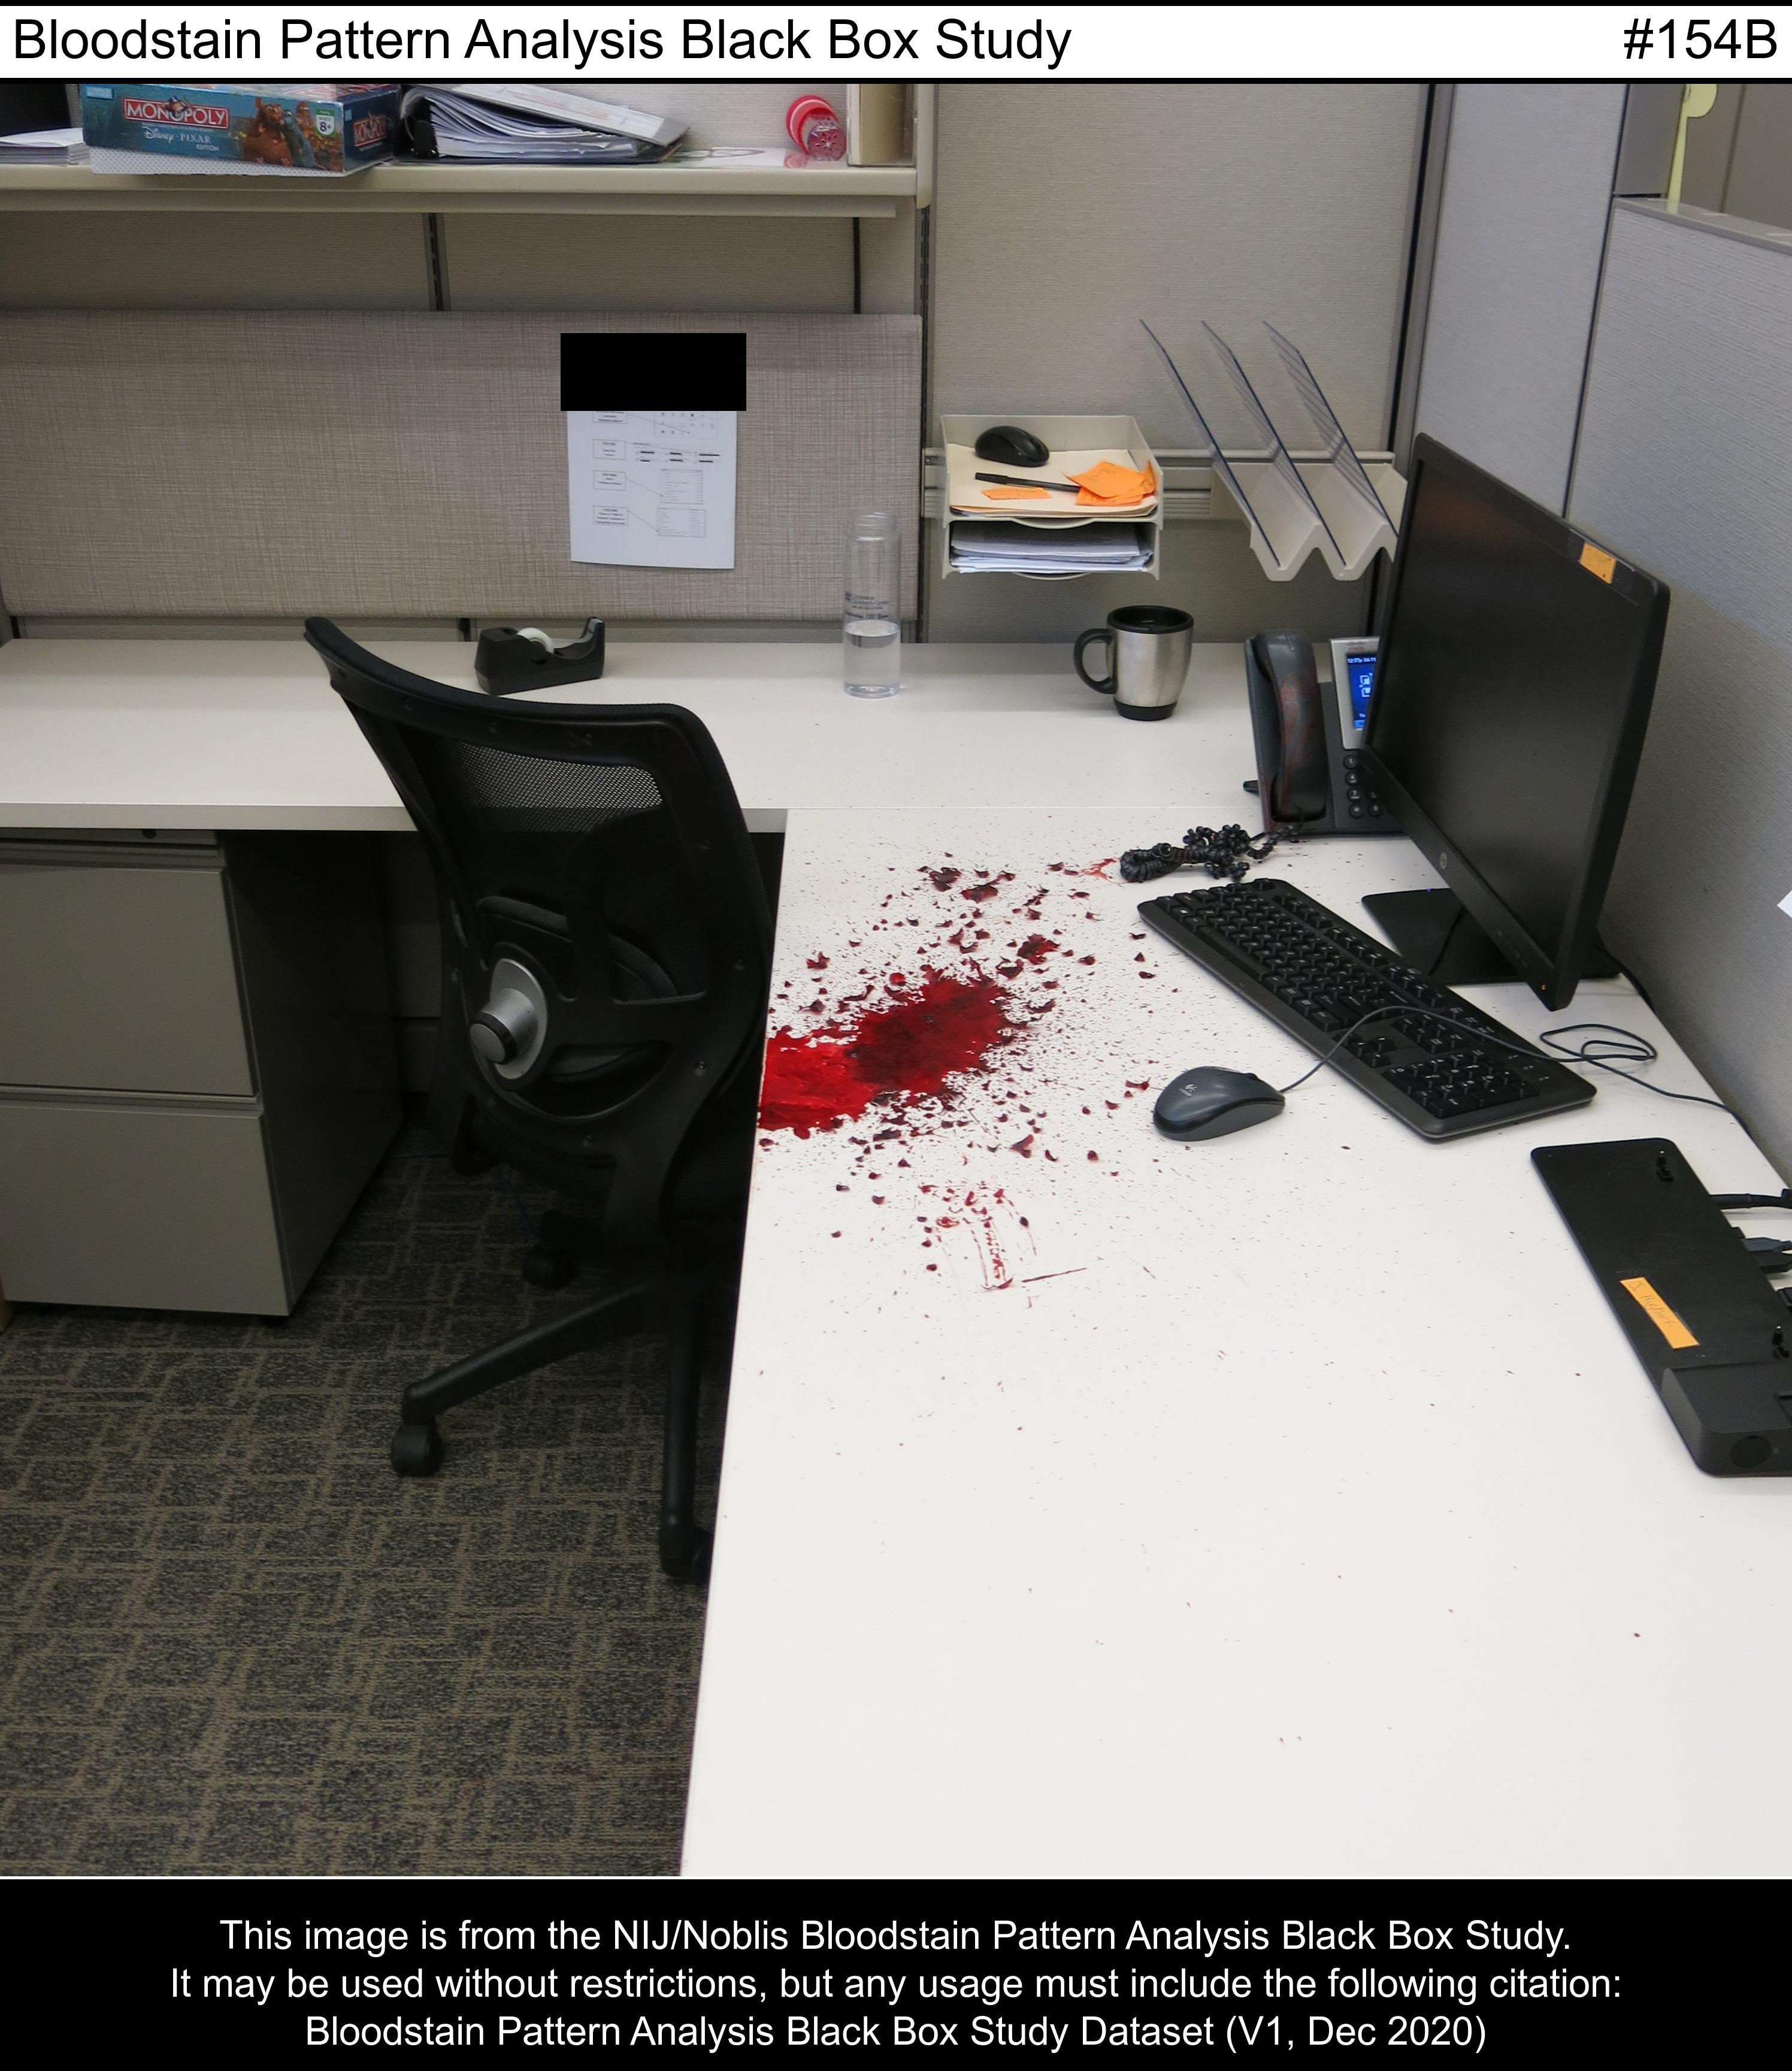Passive: (720, 808, 1197, 1326)
